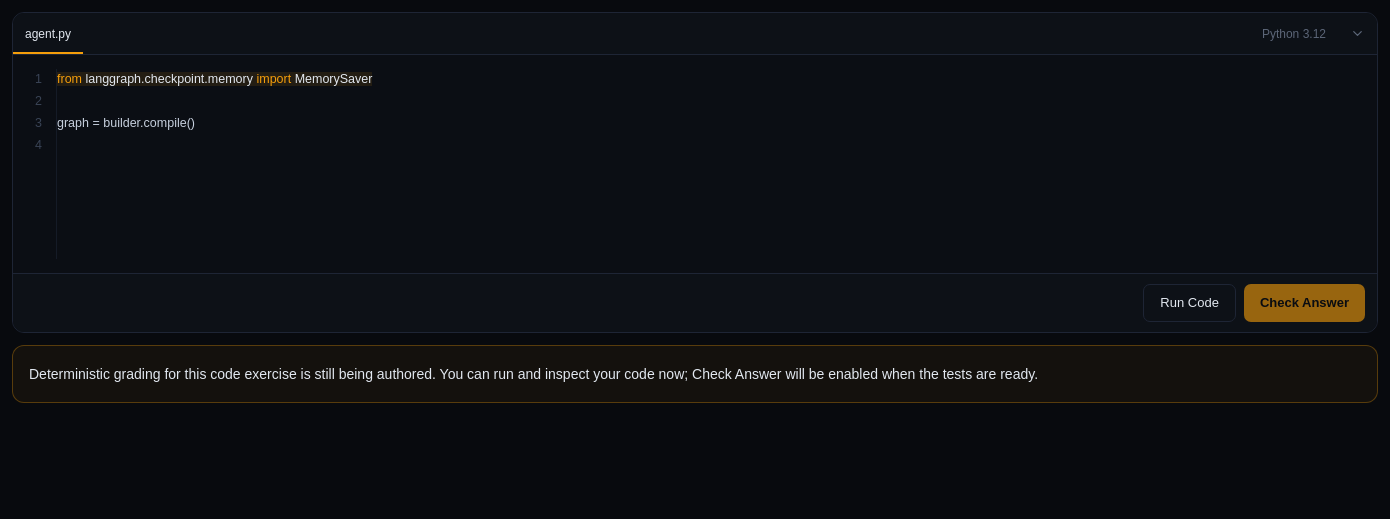
CodeCell › allows running classified code while deterministic grading is pending
Expected: the text "Deterministic grading" is shown, 29,366 -> 1038,382
Expected: the button "Check Answer" is disabled, 1244,284 -> 1365,322
What coordinates should you click on to do the following:
click the button "Run Code"
I would click on:
 (1190, 303)
Its box is 1143,284 -> 1236,322.
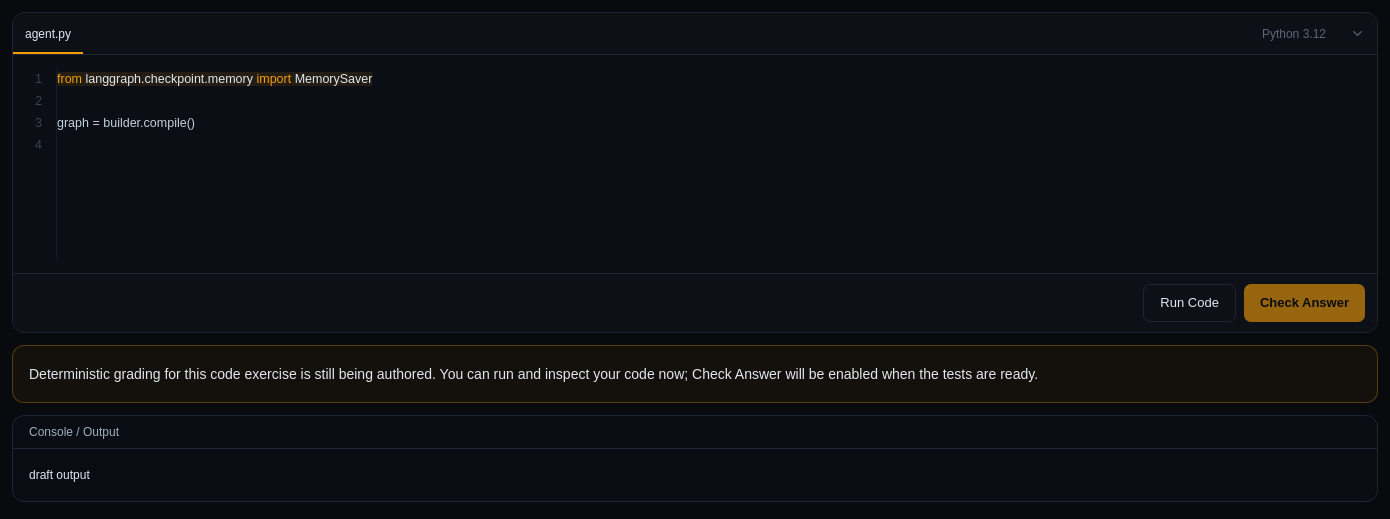
Now the text "draft output" is shown, box 29,468 -> 90,482
